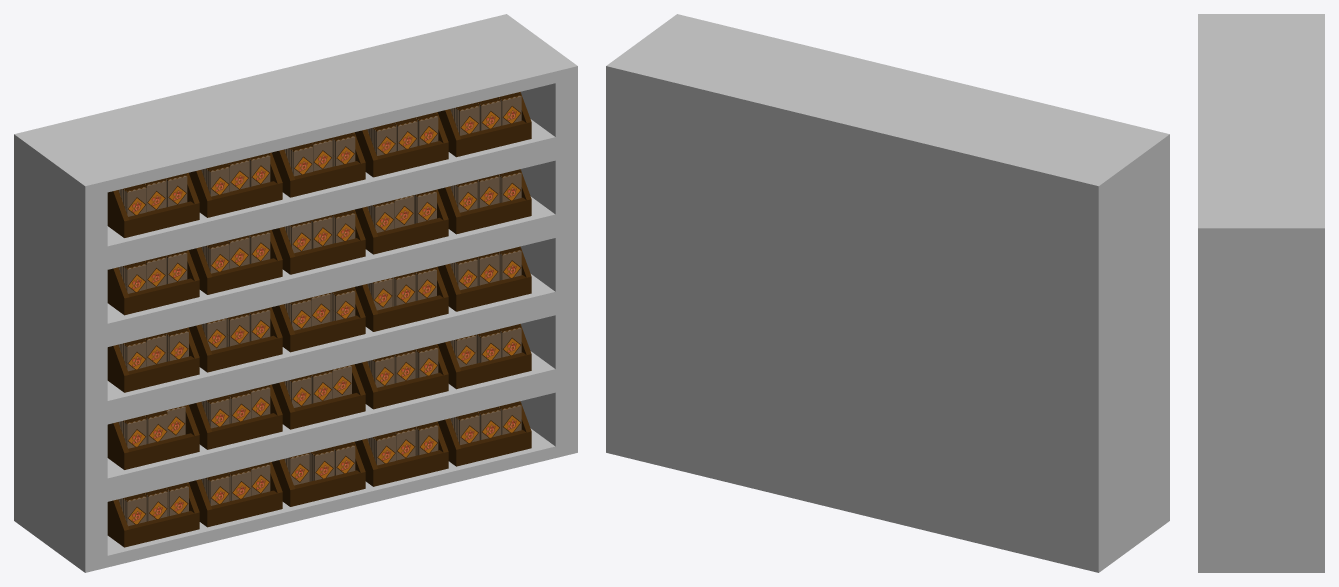
Rendered from Evelmart_Shelf_Earth.fbx.
The picture shows the model from 3 angles, left to right: view 1: azimuth 30°, elevation 25°; view 2: azimuth 150°, elevation 25°; view 3: azimuth 270°, elevation 25°; orthographic projection. The views are drawn at different scales.
Parts seen in each view (by area): view 1: Long Bookshelf, Cube.007, Cube.009, Cube.008, Cube.010, Cube.006, Earth, Earth.004, Earth.002, Earth.003, Earth.001; view 2: Long Bookshelf; view 3: Long Bookshelf.
Part boxes in pixels (left/top/right/bottom): Long Bookshelf: left=14, top=14, right=577, bottom=572; Cube.007: left=107, top=324, right=531, bottom=469; Cube.009: left=107, top=169, right=531, bottom=315; Cube.008: left=107, top=246, right=531, bottom=392; Cube.010: left=107, top=92, right=531, bottom=237; Cube.006: left=107, top=401, right=531, bottom=547; Earth: left=118, top=401, right=521, bottom=526; Earth.004: left=118, top=92, right=521, bottom=216; Earth.002: left=118, top=246, right=521, bottom=371; Earth.003: left=118, top=169, right=521, bottom=293; Earth.001: left=118, top=324, right=521, bottom=448; Long Bookshelf: left=606, top=14, right=1169, bottom=572; Long Bookshelf: left=1198, top=14, right=1324, bottom=572.
Bounding box in the file's own units: 805 × 604 × 201.
